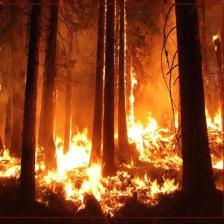fire: (0, 4, 223, 218)
